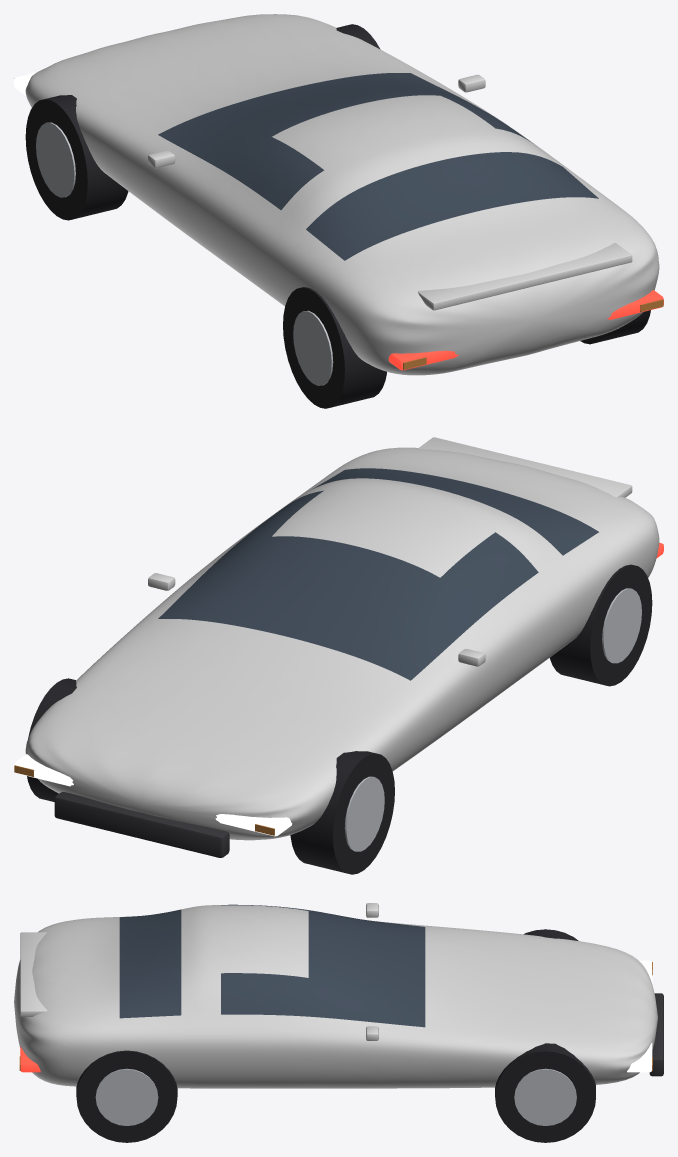
File: auto_freq_sport_lod0.glb
3 renders of one model, top to bottom at view 1: azimuth 30°, elevation 25°; view 2: azimuth 150°, elevation 25°; view 3: azimuth 270°, elevation 25°, orthographic. The views are drawn at different scales.
Visible parts, largest first — view 1: Karosserie, Rad_VL, Rad_HL, Rad_HR; view 2: Karosserie, Rad_VL, Rad_HL, Rad_VR; view 3: Karosserie, Rad_VR, Rad_HR.
Part boxes in pixels (box(x1,y1,x2,y2)): Karosserie: box(14, 14, 663, 375); Rad_VL: box(25, 95, 128, 220); Rad_HL: box(283, 287, 386, 408); Rad_HR: box(580, 310, 650, 344); Karosserie: box(14, 437, 663, 857); Rad_VL: box(290, 751, 394, 874); Rad_HL: box(550, 564, 652, 686); Rad_VR: box(27, 678, 76, 801); Karosserie: box(14, 903, 663, 1088); Rad_VR: box(495, 1043, 595, 1142); Rad_HR: box(76, 1050, 177, 1142).
Bounding box in the file's own units: 2.16 × 1.17 × 4.5.
